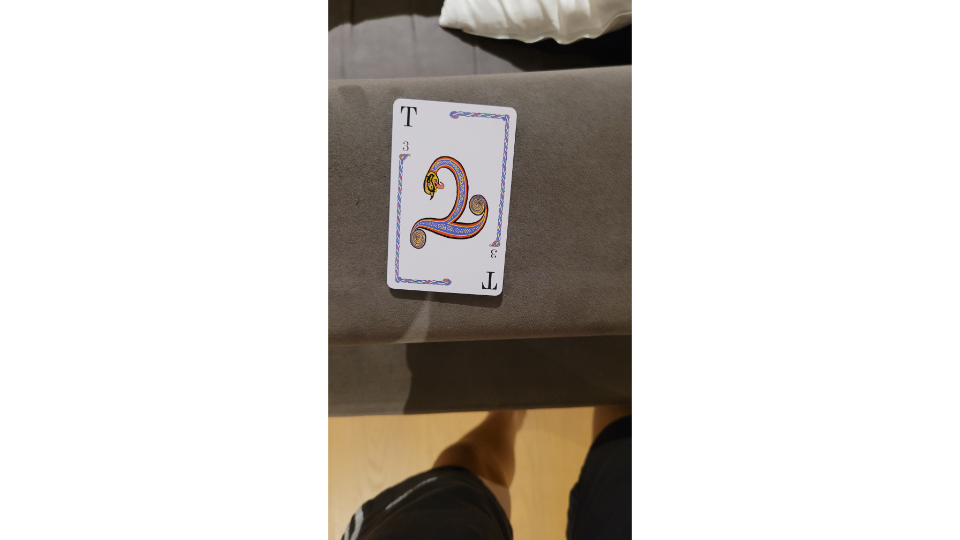T: (384, 94, 520, 303)
